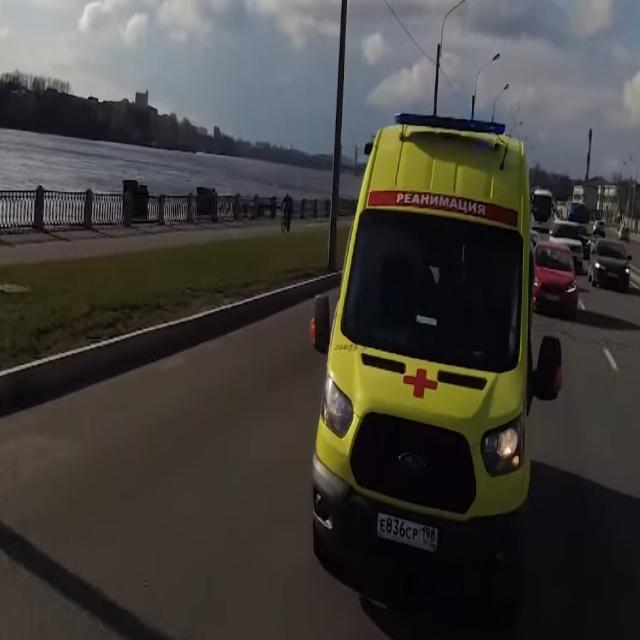intensive care unit: (312, 113, 537, 617)
non emergency car: (536, 243, 576, 314), (590, 245, 630, 289), (533, 187, 554, 241)
